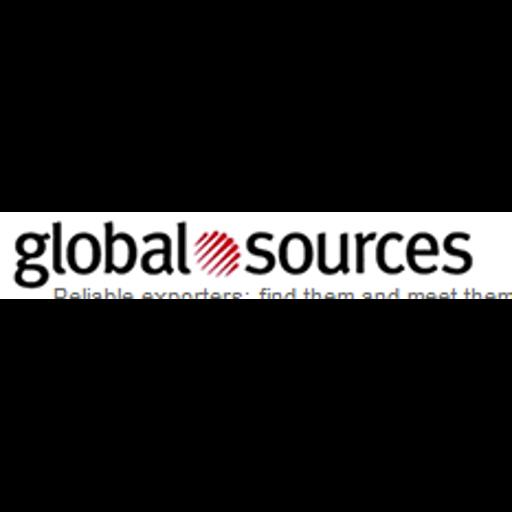Global Sources HK: (0, 212, 512, 299)
